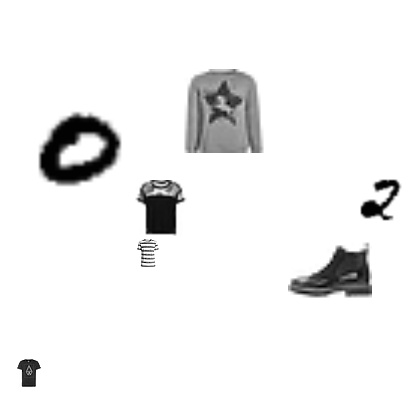0: (20, 93, 132, 205)
2: (351, 172, 407, 228)
Ankle_boot: (288, 228, 372, 312)
Pullover: (182, 69, 266, 153)
T-shirt/top: (132, 180, 188, 236), (15, 359, 43, 387), (134, 239, 162, 267)
